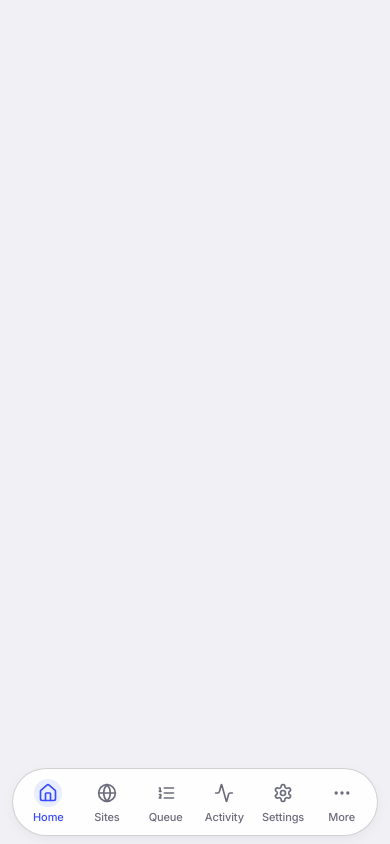
Test: BottomTabBar — More overflow drawer › closes the drawer on Escape
Click the button "More". click: (342, 802)
box: [312, 772, 371, 831]
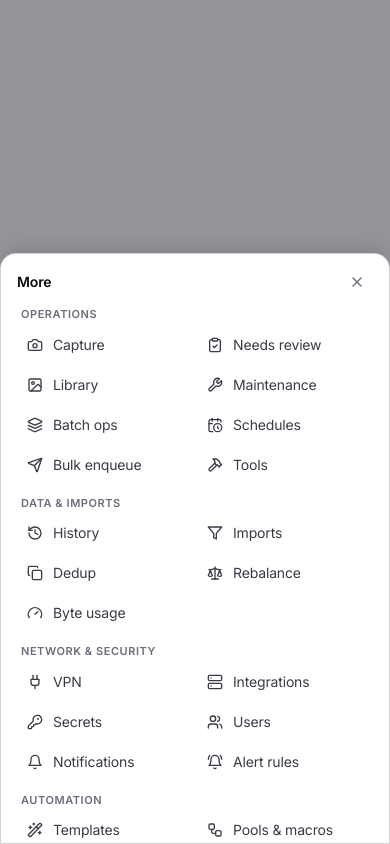
Expected: the link "VPN" is shown, [27, 673, 82, 690]
Press Escape
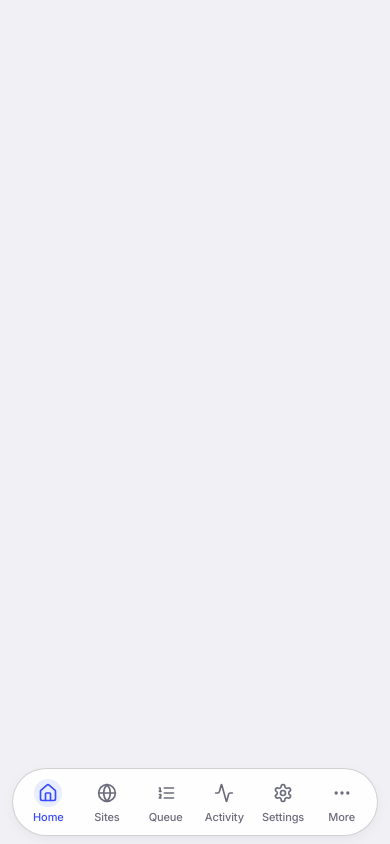
Expected: the link "VPN" is gone
